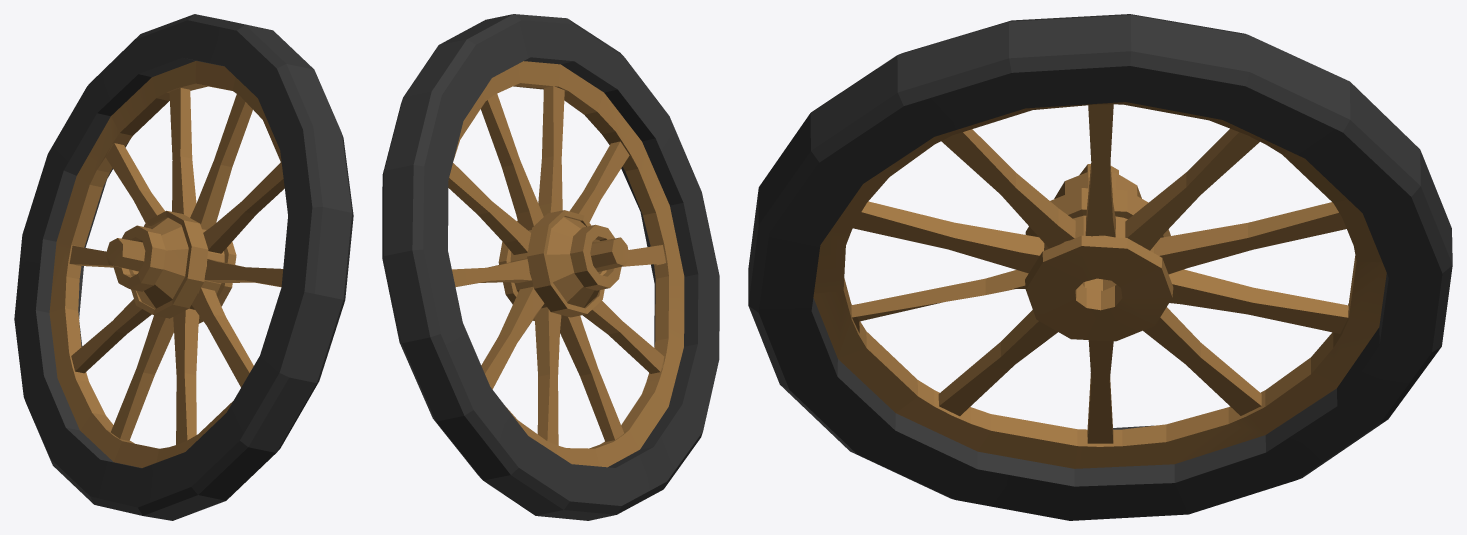
File: ea_prop_wehicule_whell_02b_pre__4__lev1.glb
3 renders of one model, left to right at view 1: azimuth 30°, elevation 25°; view 2: azimuth 150°, elevation 25°; view 3: azimuth 270°, elevation 25°, orthographic. The views are drawn at different scales.
Visible parts, largest first — view 1: ea_prop_wehicule_whell_02b_pre__4__lev1; view 2: ea_prop_wehicule_whell_02b_pre__4__lev1; view 3: ea_prop_wehicule_whell_02b_pre__4__lev1.
Part boxes in pixels (<box>): ea_prop_wehicule_whell_02b_pre__4__lev1: <box>14,14,353,520</box>; ea_prop_wehicule_whell_02b_pre__4__lev1: <box>382,14,719,520</box>; ea_prop_wehicule_whell_02b_pre__4__lev1: <box>748,14,1452,520</box>.
Bounding box in the file's own units: 0.8054 × 1.6 × 1.7.
1 material, 1 textured.
